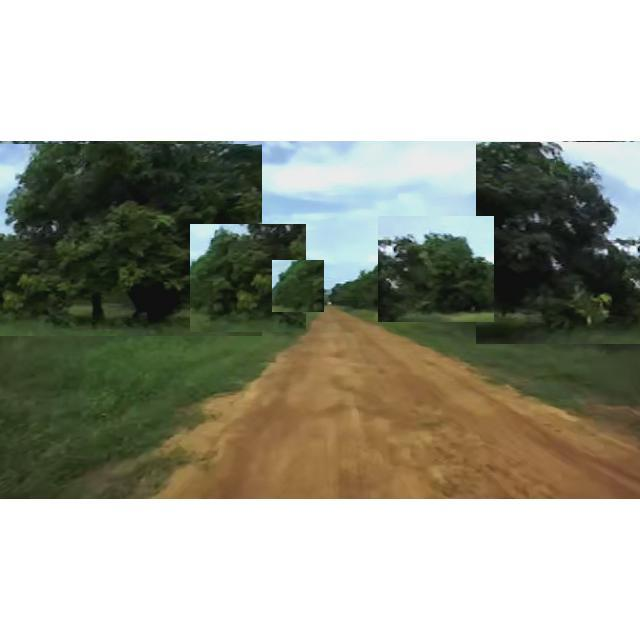direk: (0, 144, 262, 336), (476, 142, 640, 344), (190, 224, 306, 332), (378, 216, 494, 322), (272, 260, 324, 312)
